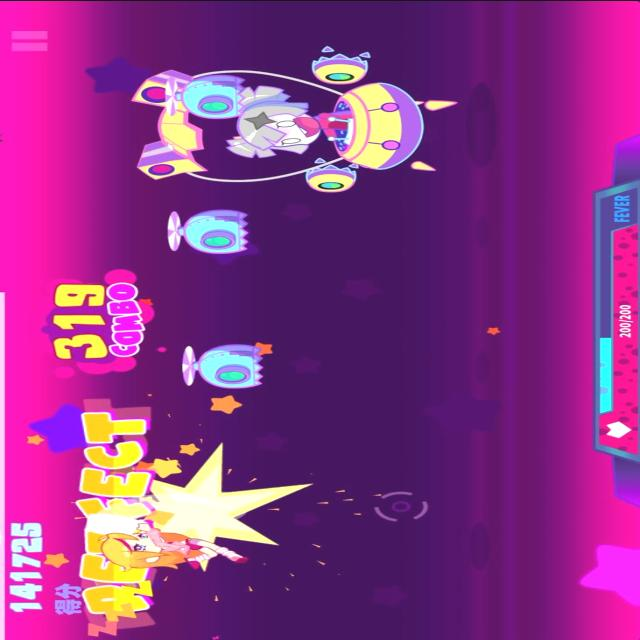cheboss: (126, 48, 470, 194)
jiqiqiu: (162, 204, 252, 262), (179, 340, 265, 390)
